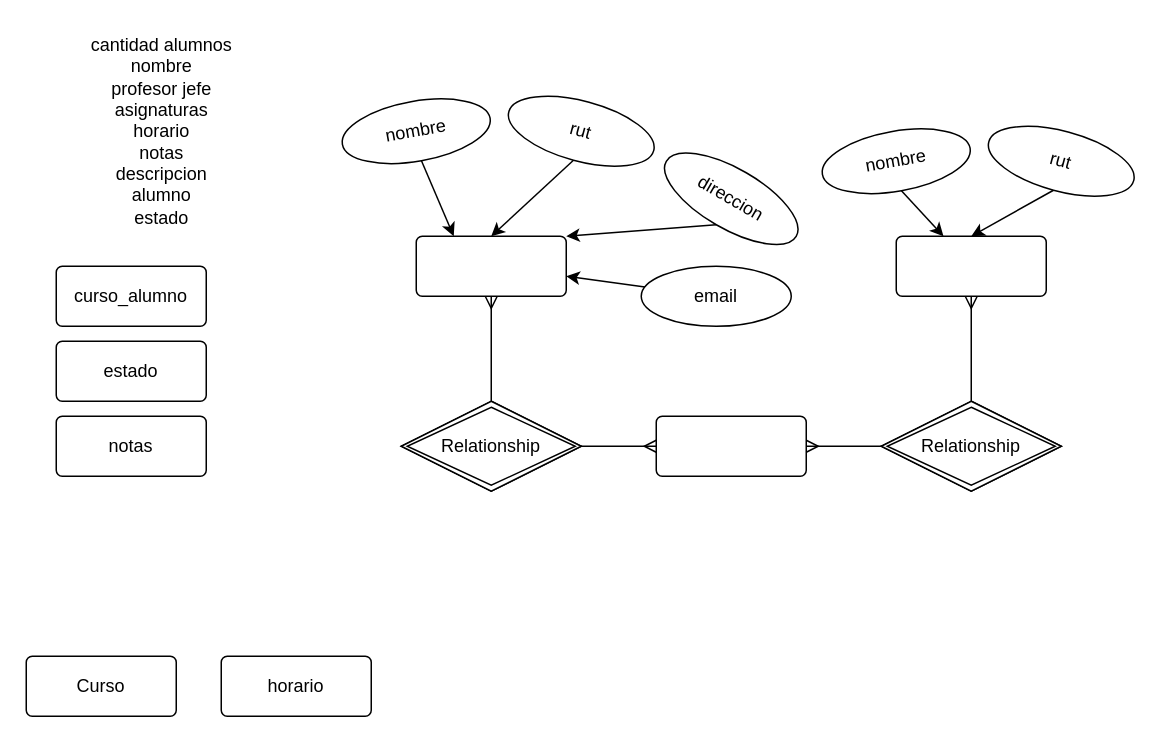
The diagram is 1169 pixels wide and 743 high, and some of its shapes have lost their labels. The centre of each missing label's shape, as x and y in pixels:
"alumno" goes at (490,265).
"asignatura" goes at (730,445).
"profesor" goes at (970,265).
